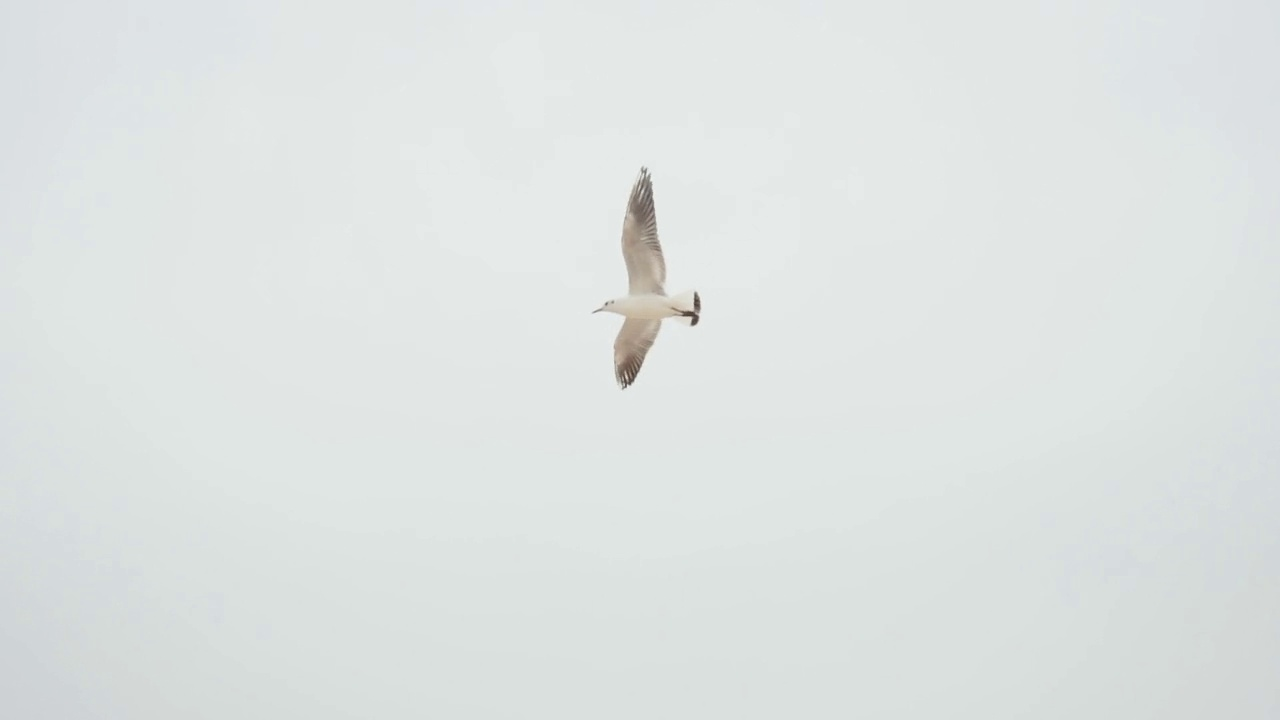bird: (591, 163, 702, 392)
